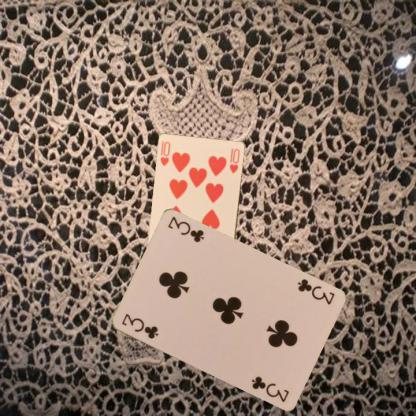10h: (158, 139, 172, 168)
3c: (294, 276, 336, 307), (118, 311, 160, 340)
